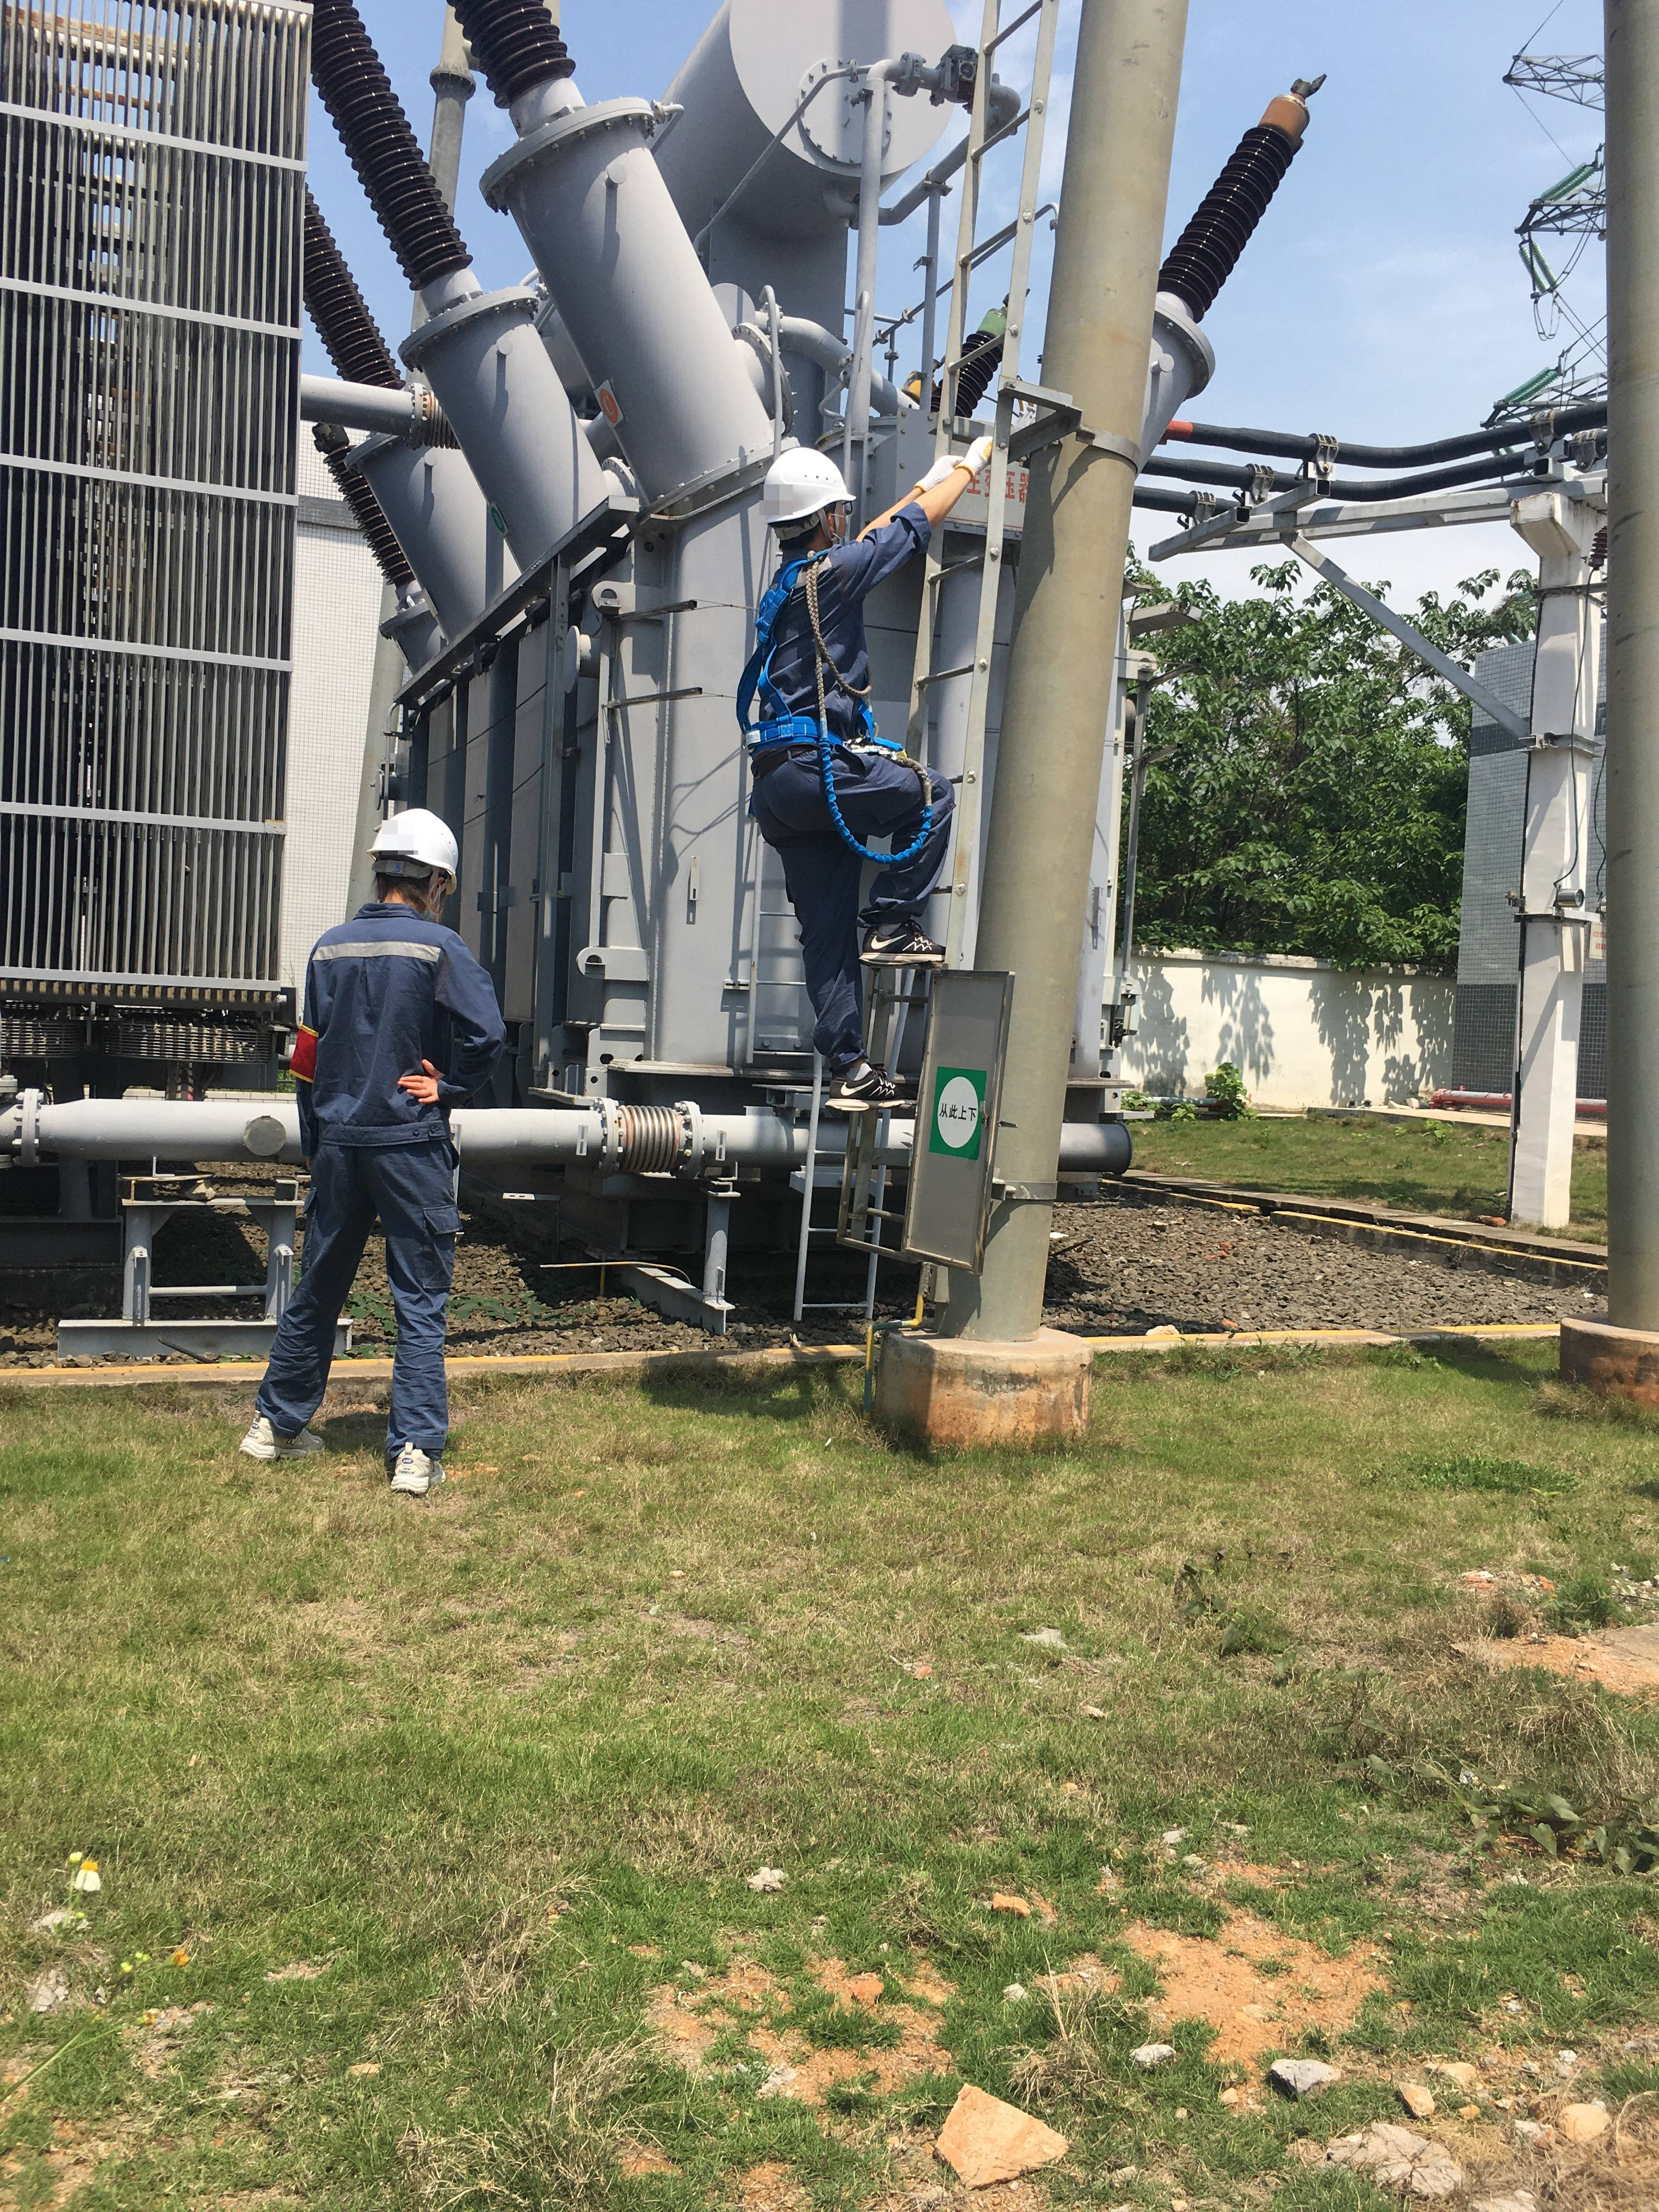downsuit: (251, 1153, 476, 1440), (739, 772, 957, 1066)
upsuit: (735, 516, 925, 735), (301, 911, 505, 1106)
wrongtop: (864, 448, 1002, 542)
